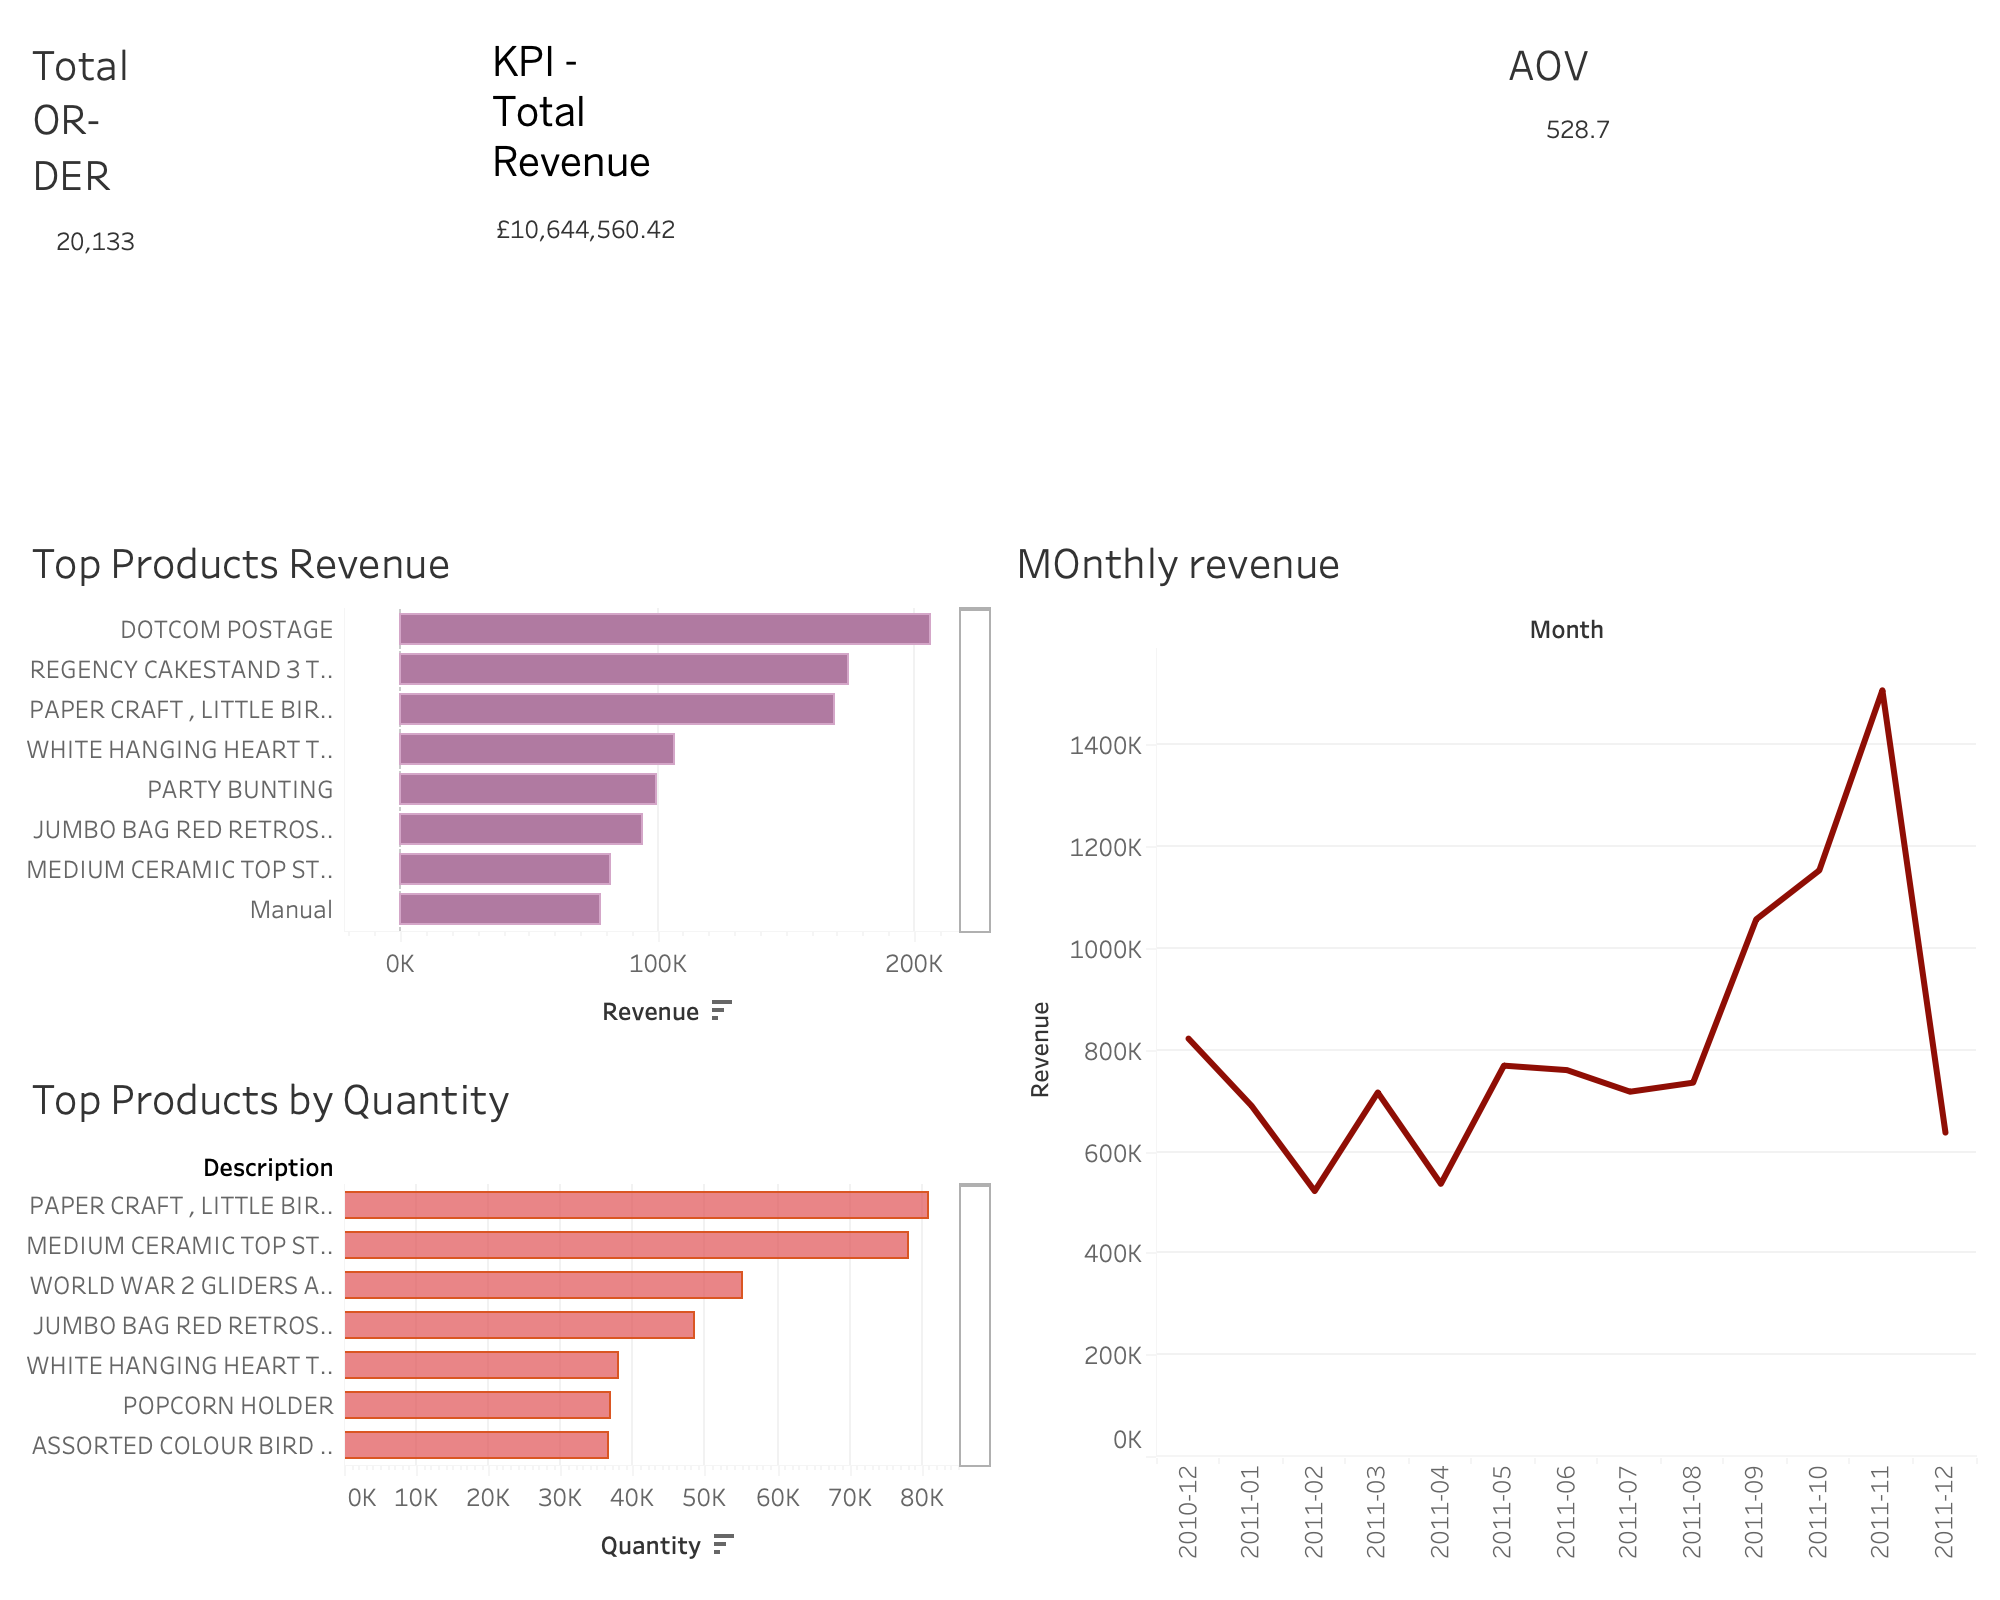

Layout of this report page (visuals, bound fields, positions):
{"tool":"tableau","page":{"name":"Sales Overview Dashboard","canvas":[1000,800],"ordinal":2},"visuals":[{"type":"worksheet","title":"Total ORDER","mark":"Automatic","box":[8,8,230.5,249]},{"type":"worksheet","title":"Total Revenue","mark":"Automatic","box":[238.5,8,507.5,249]},{"type":"worksheet","title":"AOV","mark":"Automatic","box":[746,8,246,249]},{"type":"worksheet","title":"Top Products Revenue","mark":"Automatic","rows":["Description"],"cols":["Revenue"],"box":[8,257,492,267.5]},{"type":"worksheet","title":"MOnthly revenue","mark":"Line","rows":["Revenue"],"cols":["Month"],"box":[500,257,492,535]},{"type":"worksheet","title":"Top Products by Quantity","mark":"Automatic","rows":["Description"],"cols":["Quantity"],"box":[8,524.5,492,267.5]}]}

Visuals, with their boxes in screenshot pixels (x1, y1, x2, y2), scaled from the page's 1000x800 canvas onto the 2000x1600 screenshot:
"Total ORDER" worksheet: [left=16, top=16, right=477, bottom=514]
"Total Revenue" worksheet: [left=477, top=16, right=1492, bottom=514]
"AOV" worksheet: [left=1492, top=16, right=1984, bottom=514]
"Top Products Revenue" worksheet: [left=16, top=514, right=1000, bottom=1049]
"MOnthly revenue" worksheet (Line marks): [left=1000, top=514, right=1984, bottom=1584]
"Top Products by Quantity" worksheet: [left=16, top=1049, right=1000, bottom=1584]
